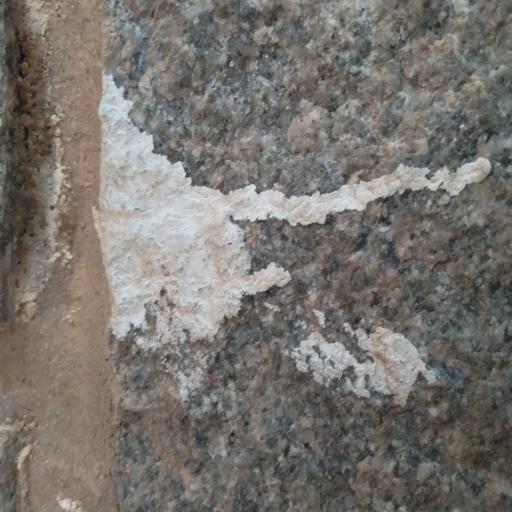stain: (65, 81, 487, 434)
